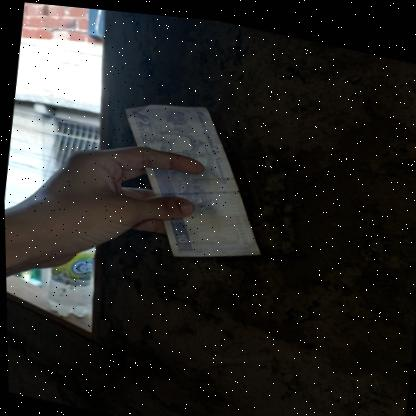ten-back-vef: (106, 86, 276, 273)
